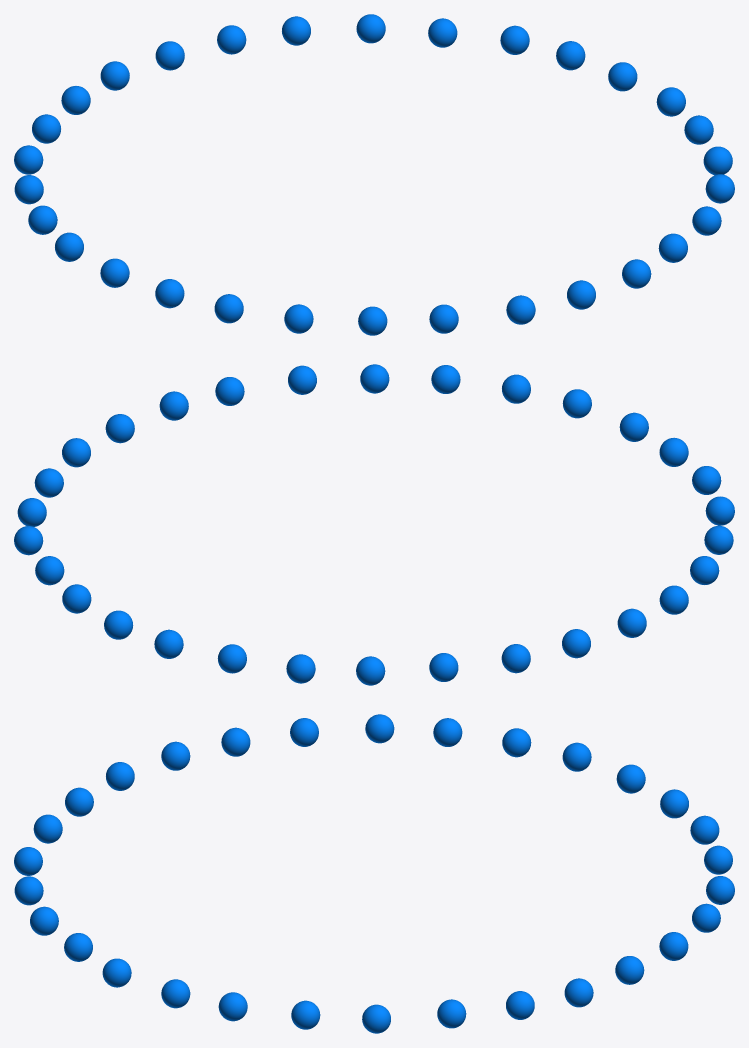
The picture shows the model from 3 angles, top to bottom: view 1: azimuth 30°, elevation 25°; view 2: azimuth 150°, elevation 25°; view 3: azimuth 270°, elevation 25°; orthographic projection.
Parts seen in each view (by area): view 1: Sphere052; view 2: Sphere052; view 3: Sphere052.
Part boxes in pixels (left/top/right/bottom): Sphere052: left=14, top=14, right=734, bottom=335; Sphere052: left=14, top=364, right=734, bottom=685; Sphere052: left=14, top=714, right=734, bottom=1033.
Bounding box in the file's own units: 203 × 8.22 × 204.
